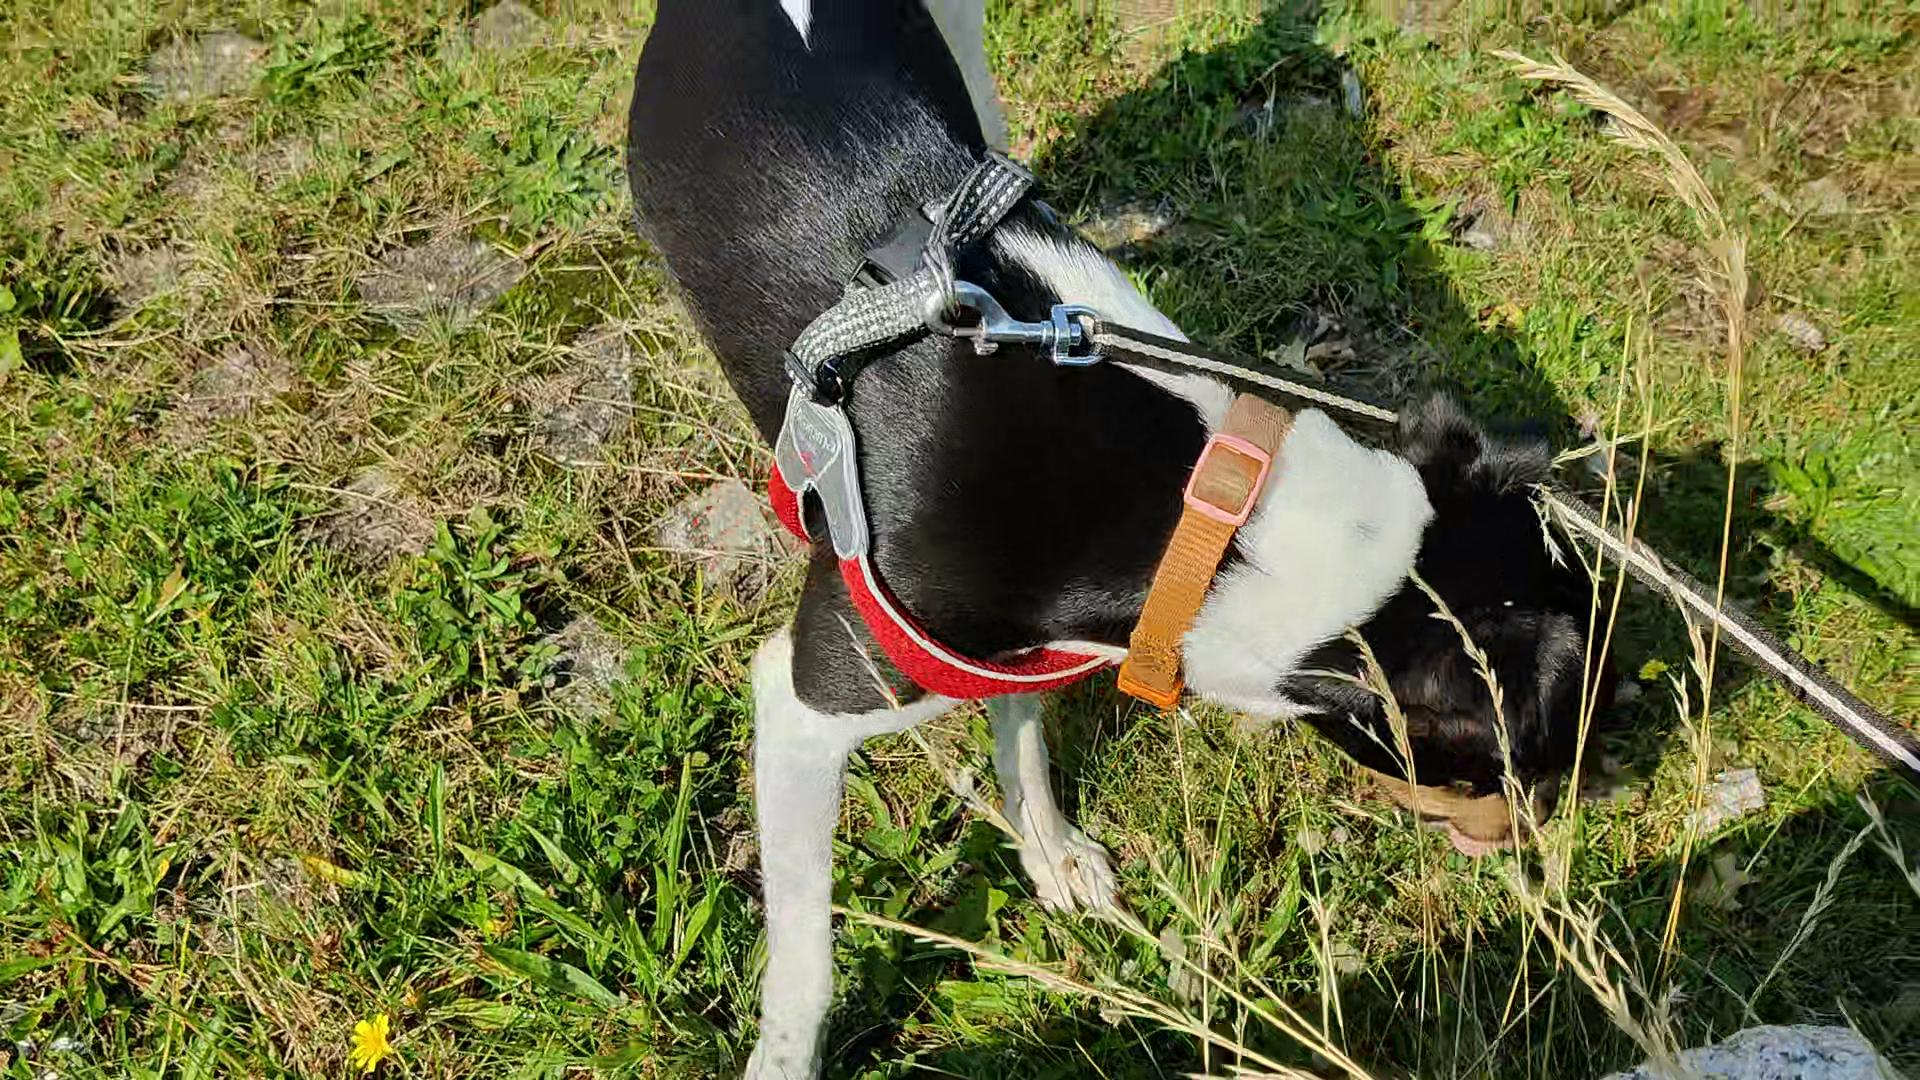Dog: (580, 0, 1681, 1079)
